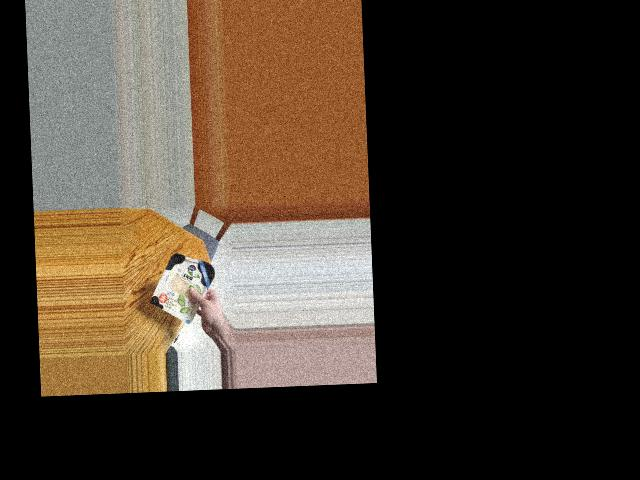cheese: (152, 253, 215, 317)
